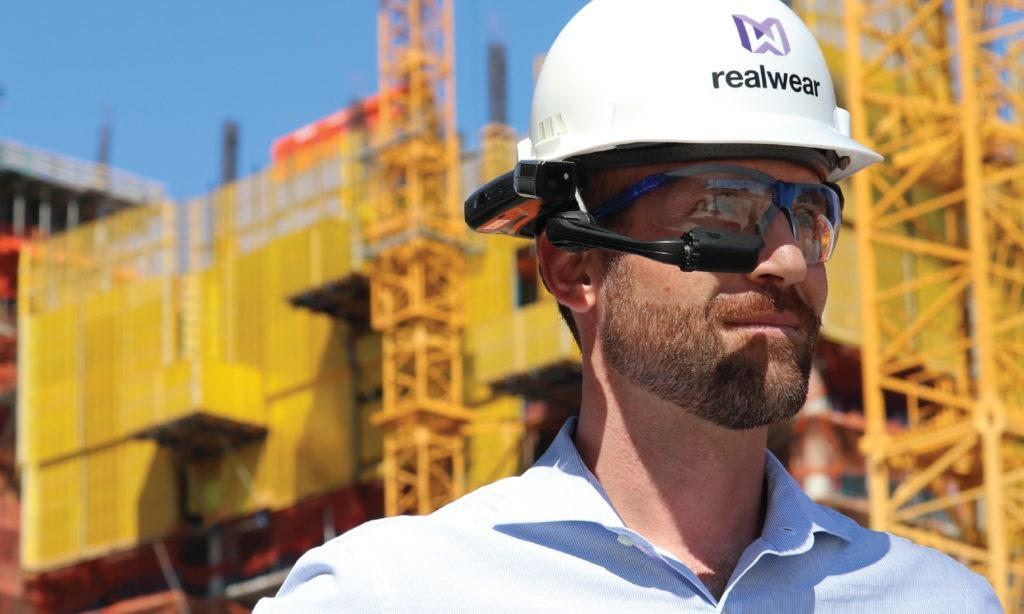helmet: (462, 1, 879, 235)
